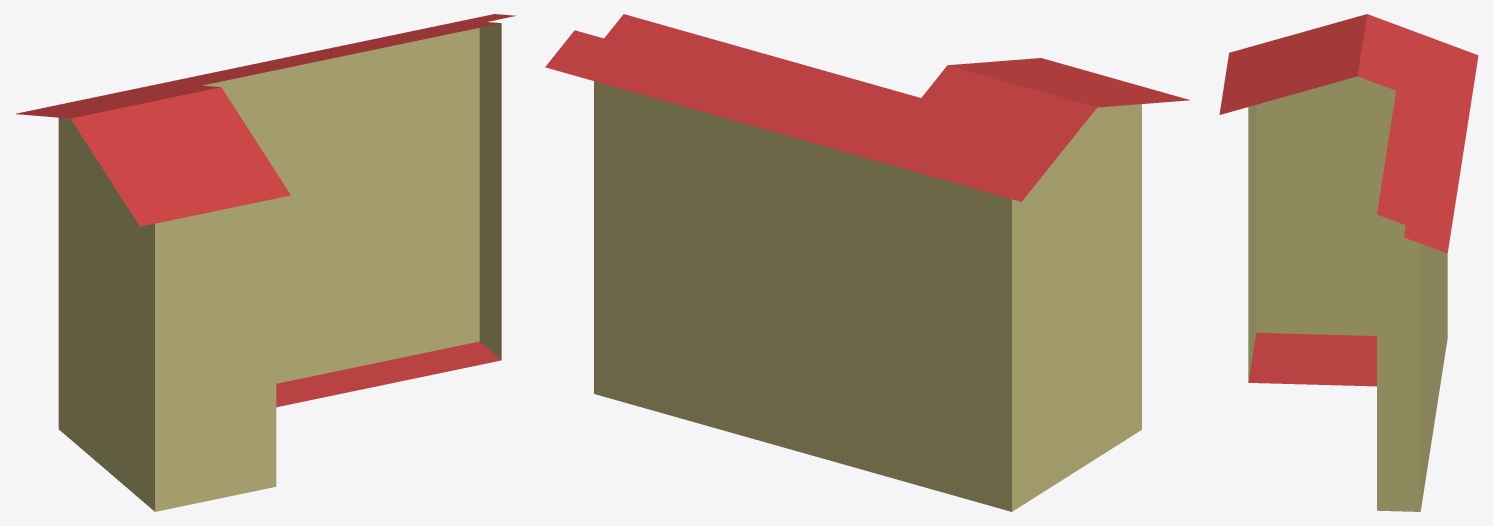
3 renders of one model, left to right at view 1: azimuth 30°, elevation 25°; view 2: azimuth 150°, elevation 25°; view 3: azimuth 270°, elevation 25°, orthographic. The views are drawn at different scales.
Size of the model in its own units: 12.56 by 6.7 by 8.84.
